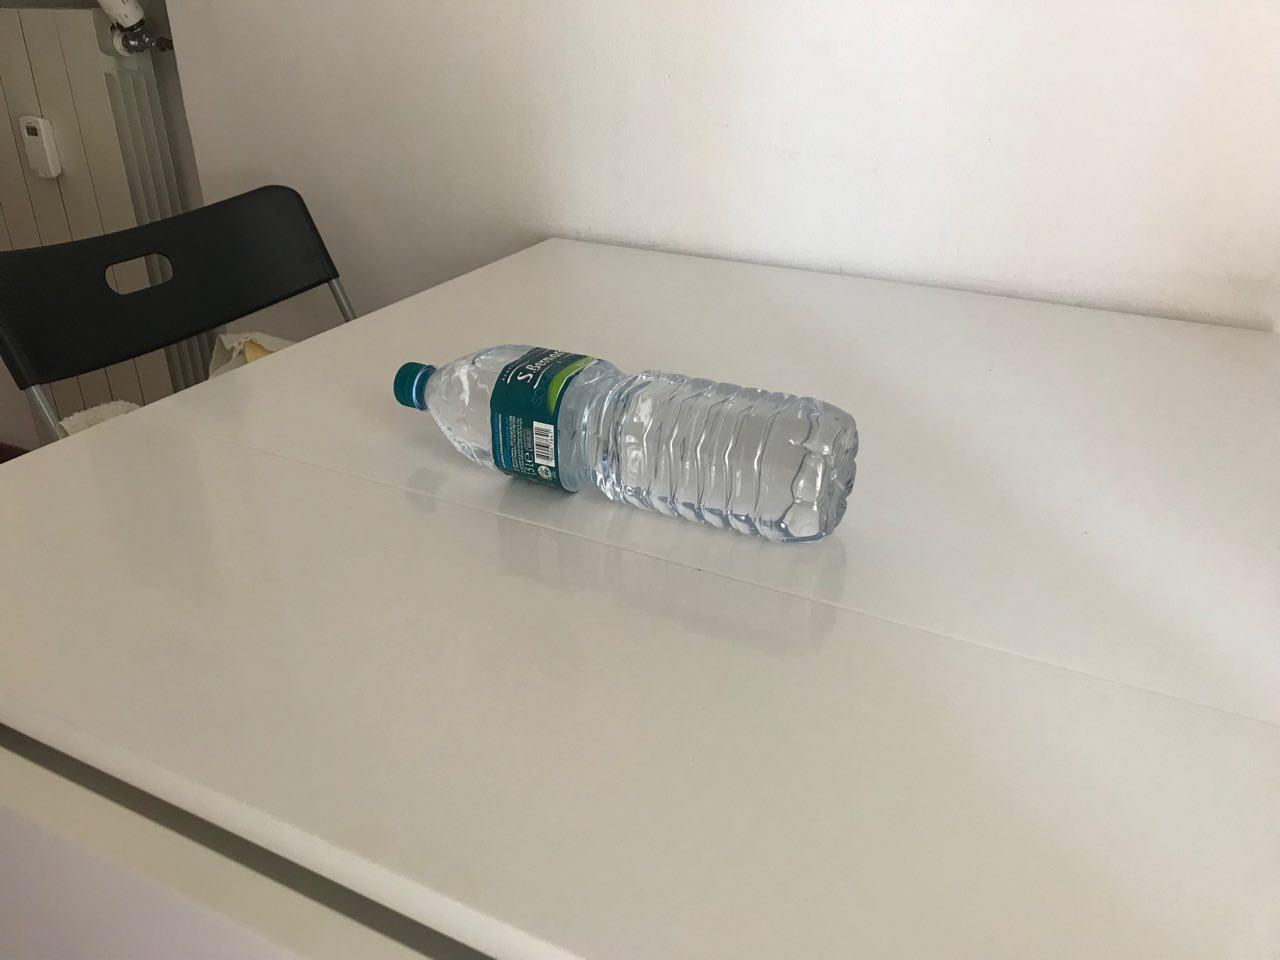san_bernardo: (393, 343, 861, 547)
